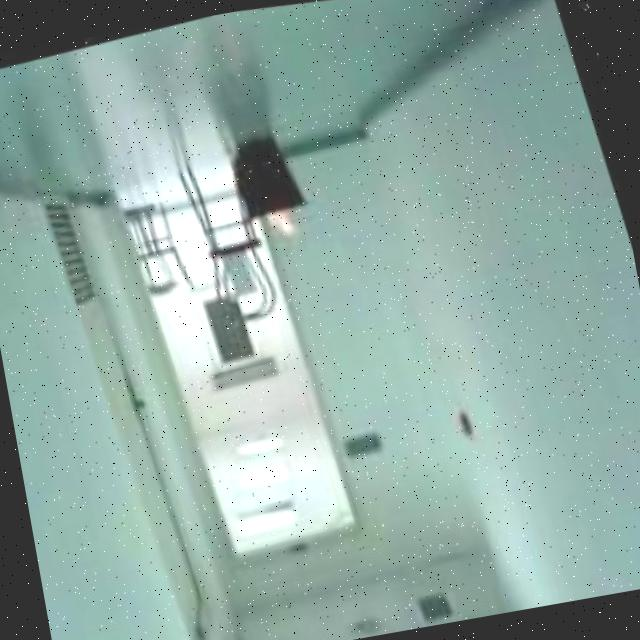fire: (262, 203, 305, 246)
